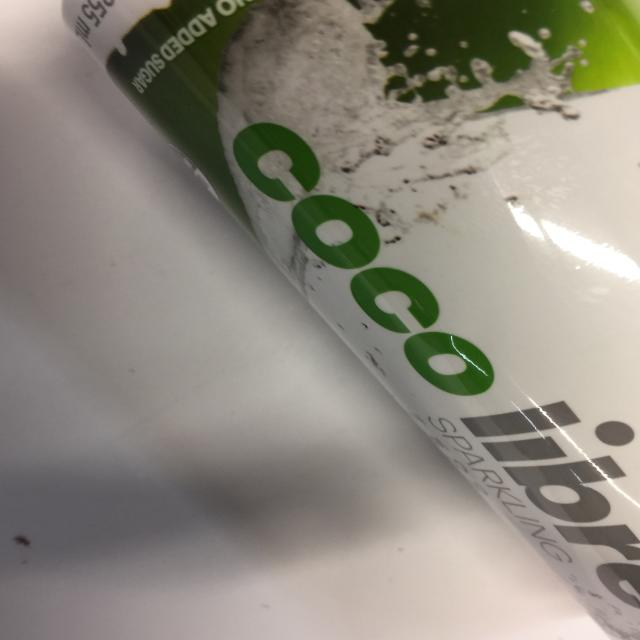plastic: (59, 0, 640, 640)
